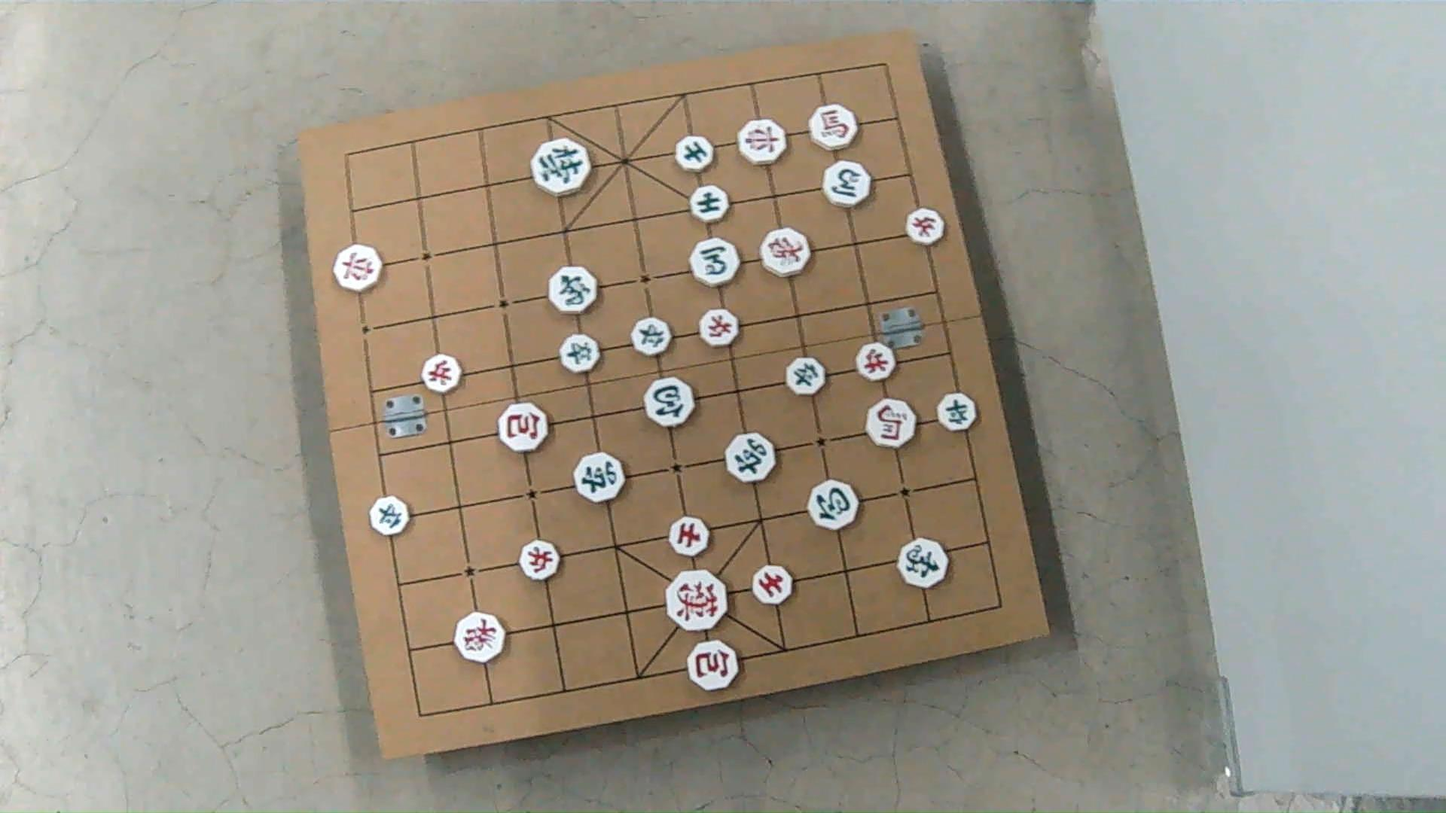cha_green: (575, 454, 625, 504), (725, 433, 774, 482)
cha_red: (333, 244, 383, 291), (741, 118, 790, 164)
jol_green: (631, 316, 672, 355), (937, 393, 978, 431), (372, 496, 411, 535), (562, 336, 602, 373), (786, 358, 825, 395)
jol_red: (858, 342, 898, 382), (521, 540, 560, 581), (421, 355, 460, 393), (700, 311, 739, 349), (903, 209, 944, 245)
ma_green: (691, 239, 740, 288), (823, 161, 871, 206)
ma_red: (866, 398, 916, 447), (808, 104, 857, 150)
po_green: (807, 481, 856, 531), (642, 377, 693, 425)
po_red: (688, 640, 739, 690), (498, 403, 548, 452)
sa_green: (691, 184, 729, 221), (676, 135, 712, 172)
sa_red: (669, 516, 708, 556), (752, 565, 792, 604)
sang_green: (896, 539, 946, 588), (548, 265, 597, 315)
sang_red: (761, 229, 811, 279), (456, 614, 505, 663)
wang_green: (531, 139, 590, 196)
wang_red: (669, 569, 731, 630)
